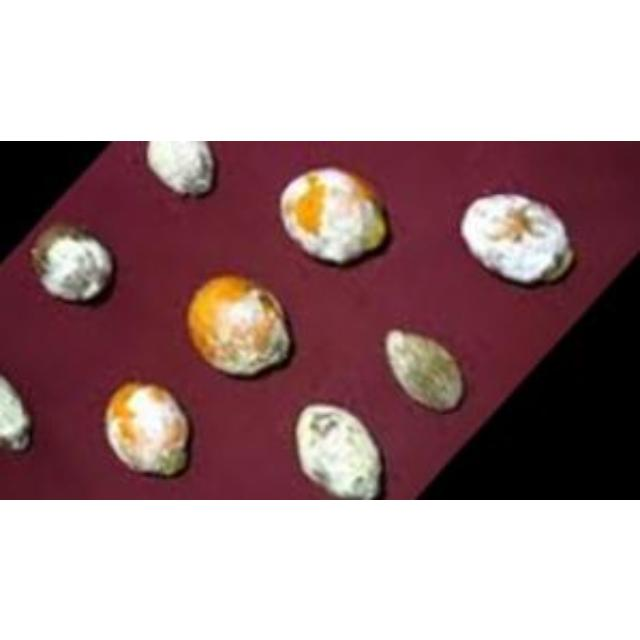damaged: (278, 162, 390, 266), (460, 190, 572, 284), (188, 274, 290, 374), (105, 380, 192, 478), (295, 402, 383, 498), (384, 326, 464, 412), (29, 222, 112, 302), (146, 140, 214, 196), (1, 369, 33, 451)
